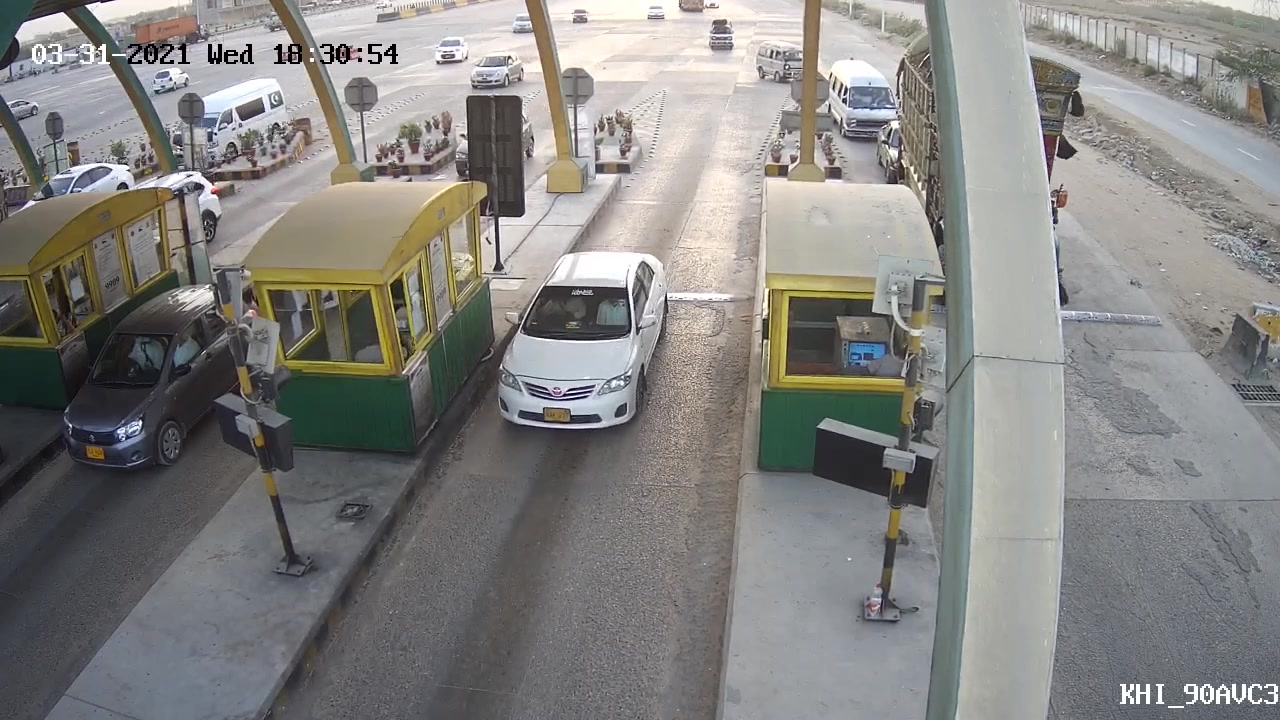F1: (490, 245, 676, 435)
